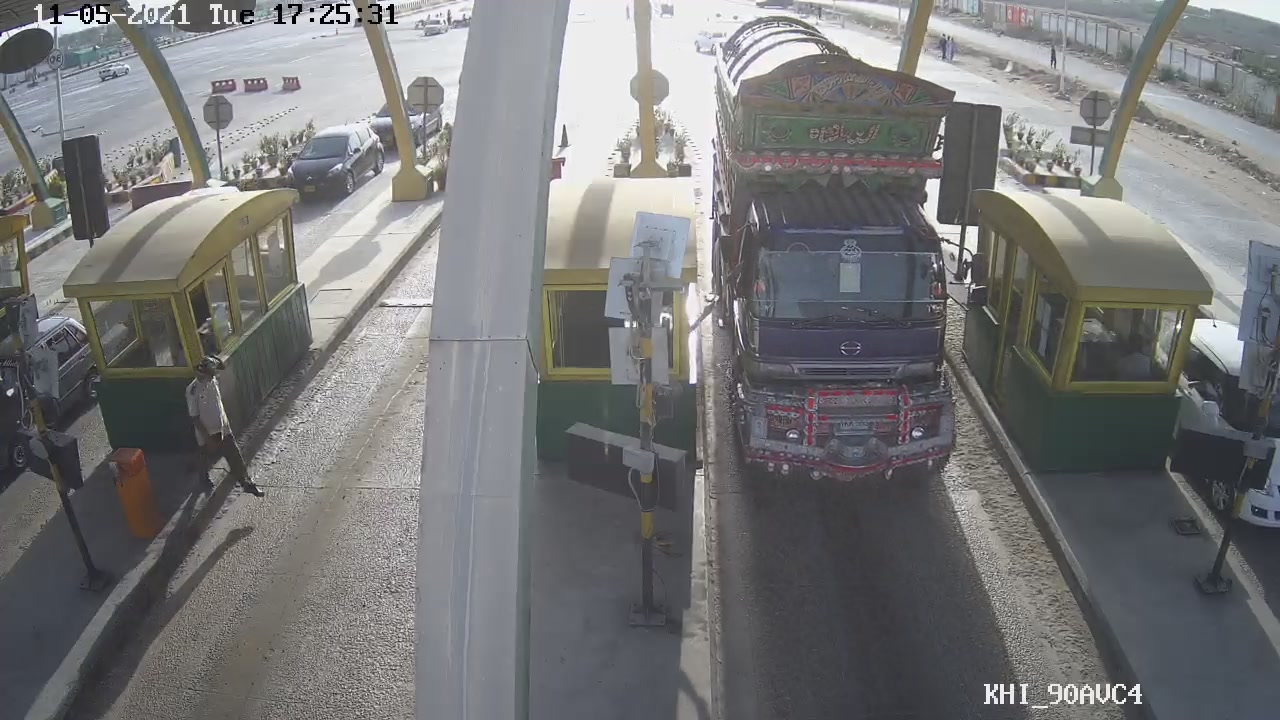F5: (703, 49, 983, 489)
